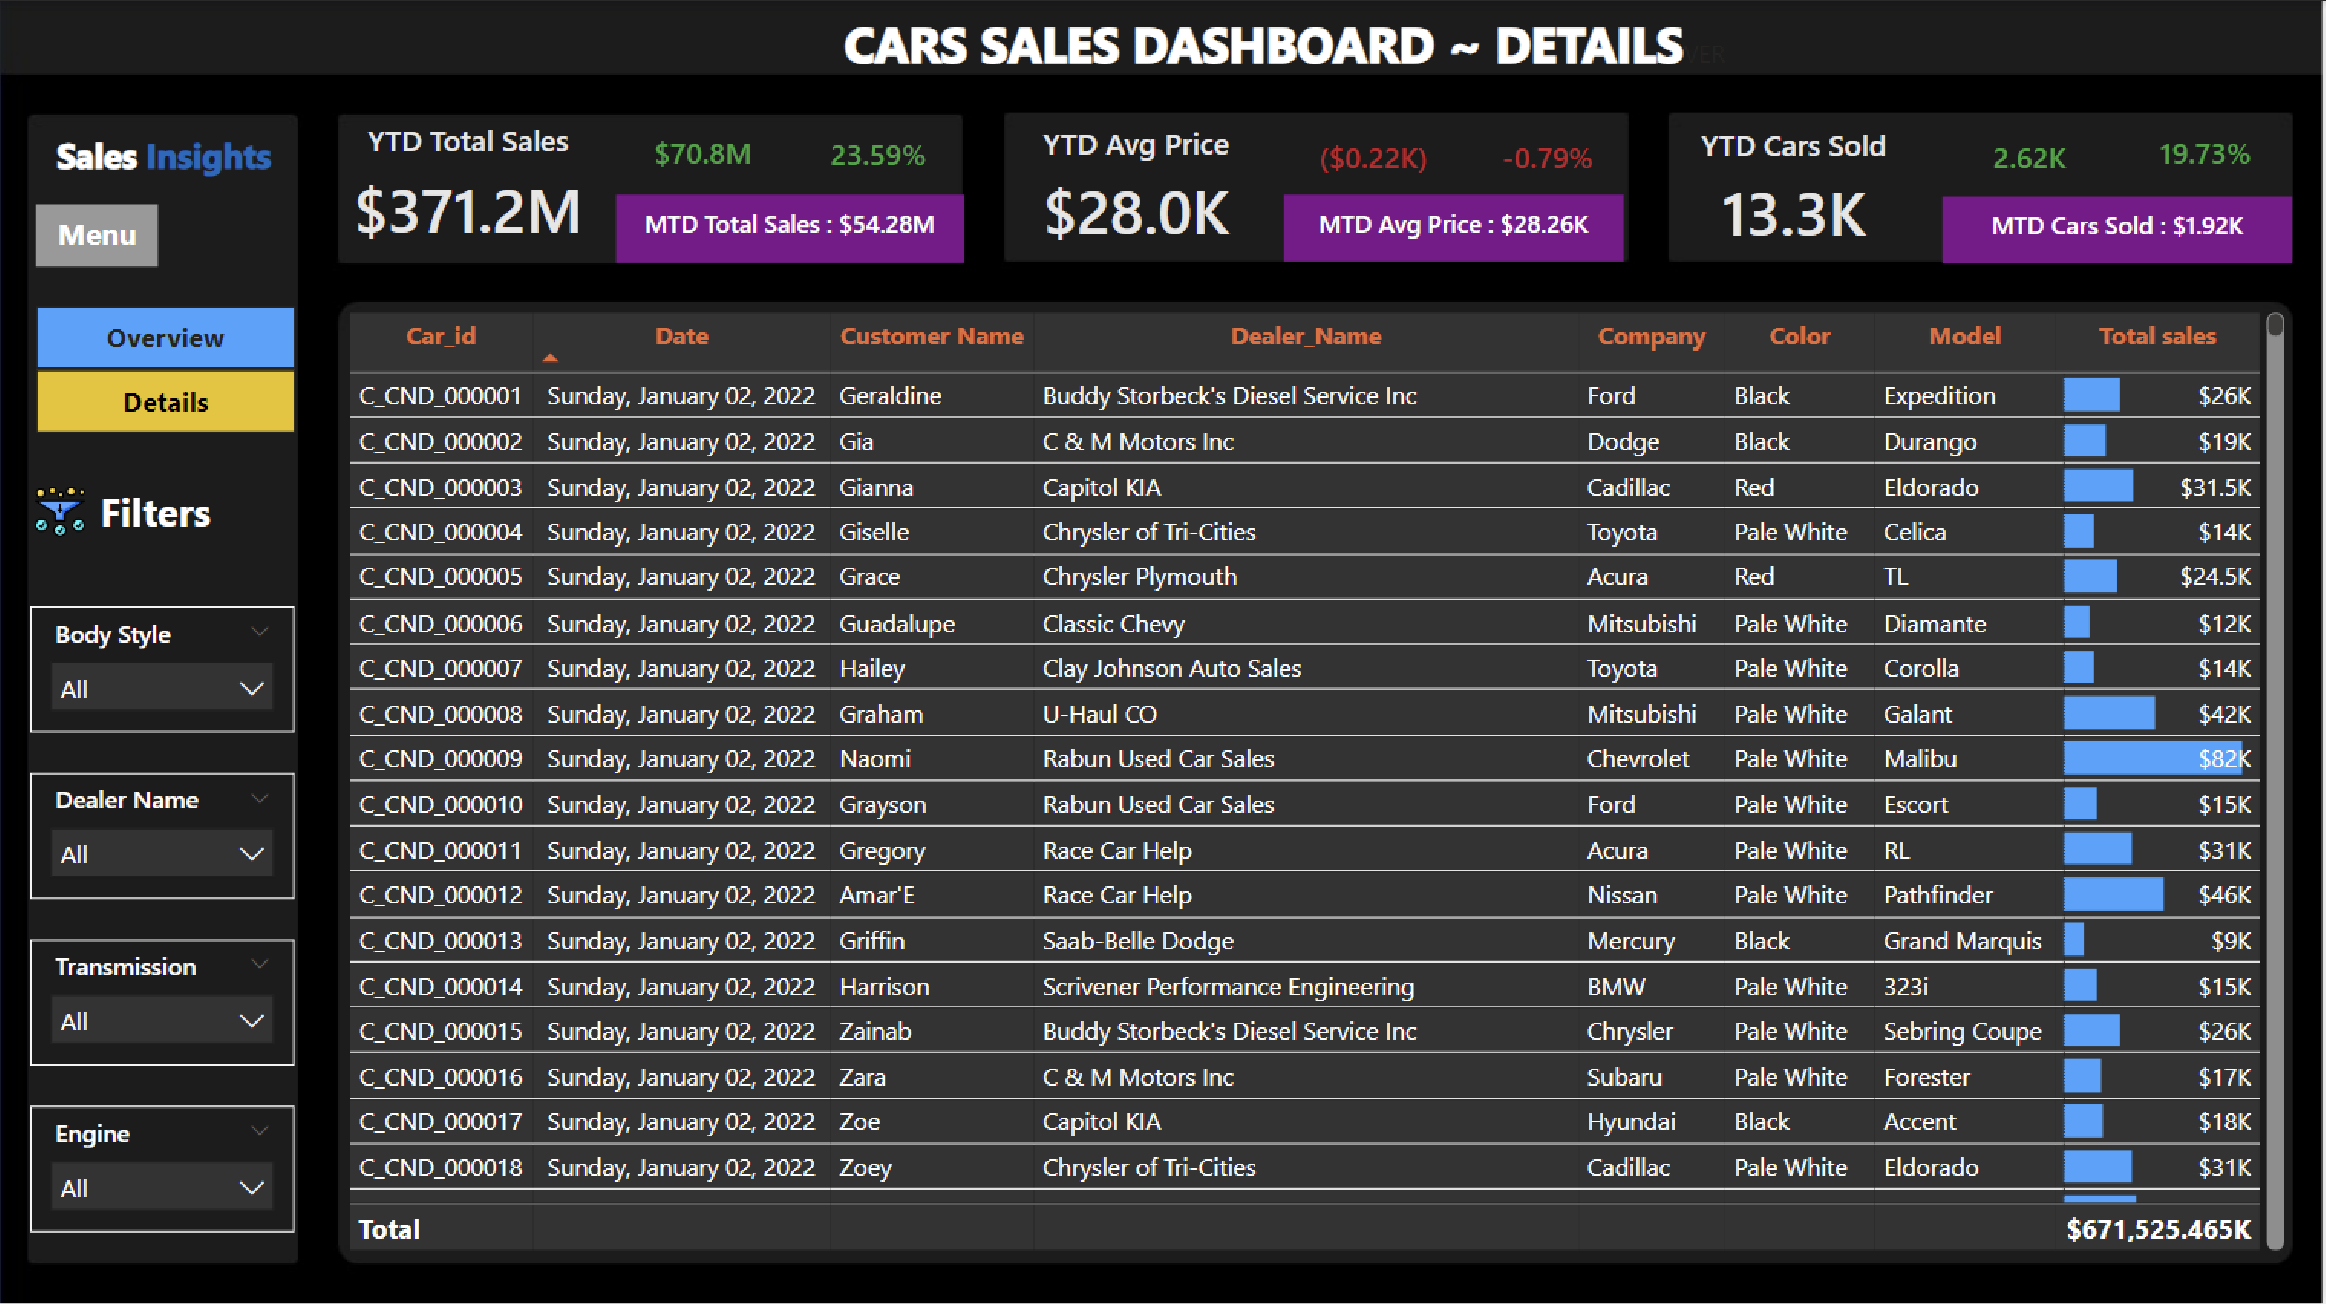

The dashboard page shown, as its layout file describes it:
{"tool":"powerbi","page":{"name":"Details","canvas":[1280,720],"ordinal":1},"visuals":[{"type":"card","title":"YTD Total Sales","fields":{"Values":["car_data.YTD Total Sales"]},"box":[175.6,65.1,164,81.4],"z":0},{"type":"card","fields":{"Values":["car_data.Sales Difference"]},"box":[339.5,65.1,96.5,40.7],"z":1000},{"type":"card","fields":{"Values":["car_data.YOY Sales Growth"]},"box":[436,66.3,95.3,40.7],"z":2000},{"type":"card","fields":{"Values":["car_data.MTD KPI"]},"box":[339.5,107,191.9,37.2],"z":3000},{"type":"card","title":"YTD Avg Price","fields":{"Values":["car_data.YTD Avg Price"]},"box":[544.2,66.3,164,81.4],"z":4000},{"type":"card","fields":{"Values":["car_data.Avg Price Difference"]},"box":[708.1,67.4,96.5,40.7],"z":5000},{"type":"card","fields":{"Values":["car_data.YoY Avg Price Growth"]},"box":[804.7,67.4,96.5,40.7],"z":6000},{"type":"card","fields":{"Values":["car_data.MTD Avg Price KPI"]},"box":[708.1,106.1,187.1,37],"z":7000},{"type":"card","title":"YTD Cars Sold","fields":{"Values":["car_data.YTD Cars Sold"]},"box":[907.1,67.9,163.3,81.1],"z":8000},{"type":"card","fields":{"Values":["car_data.Cars Sold Difference"]},"box":[1070.4,67.9,96.6,40.5],"z":9000},{"type":"card","fields":{"Values":["car_data.YoY Cars Sold Growth"]},"box":[1167,65.6,96.6,40.5],"z":10000},{"type":"card","fields":{"Values":["car_data.MTD Cars Sold KPI"]},"box":[1070.4,107.3,193.1,37],"z":11000},{"type":"textbox","box":[431.4,0,553.5,50],"z":12000},{"type":"slicer","fields":{"Values":["car_data.Body Style"]},"box":[16.6,333.6,145.3,69.8],"z":13000},{"type":"slicer","fields":{"Values":["car_data.Dealer_Name"]},"box":[16.6,425.1,145.3,69.8],"z":14000},{"type":"slicer","fields":{"Values":["car_data.Transmission"]},"box":[16.6,516.5,145.3,69.8],"z":15000},{"type":"slicer","fields":{"Values":["car_data.Engine"]},"box":[16.6,608,145.3,69.8],"z":16000},{"type":"textbox","box":[46.8,261.9,79.1,39.5],"z":17000},{"type":"image","box":[14.2,261.9,39.5,39.5],"z":18000},{"type":"tableEx","fields":{"Values":["car_data.Car_id","car_data.Date","car_data.Customer Name","car_data.Dealer_Name","car_data.Company","car_data.Color","car_data.Model","car_data.Price ($)"]},"box":[187.1,166.3,1076.7,526.9],"z":19000},{"type":"textbox","box":[17.7,67.6,145.5,41.6],"z":20000},{"type":"textbox","box":[19.7,112.2,67.6,34.3],"z":21000},{"type":"pageNavigator","box":[19.7,167.3,143.4,71.7],"z":22000}]}

Visuals, with their boxes in screenshot pixels (x1, y1, x2, y2), scaled from the page's 1280x720 canvas onto the 2326x1304 screenshot:
"YTD Total Sales" card: bbox=[319, 118, 617, 265]
card - car_data.Sales Difference: bbox=[617, 118, 792, 192]
card - car_data.YOY Sales Growth: bbox=[792, 120, 965, 194]
card - car_data.MTD KPI: bbox=[617, 194, 966, 261]
"YTD Avg Price" card: bbox=[989, 120, 1287, 268]
card - car_data.Avg Price Difference: bbox=[1287, 122, 1462, 196]
card - car_data.YoY Avg Price Growth: bbox=[1462, 122, 1638, 196]
card - car_data.MTD Avg Price KPI: bbox=[1287, 192, 1627, 259]
"YTD Cars Sold" card: bbox=[1648, 123, 1945, 270]
card - car_data.Cars Sold Difference: bbox=[1945, 123, 2121, 196]
card - car_data.YoY Cars Sold Growth: bbox=[2121, 119, 2296, 192]
card - car_data.MTD Cars Sold KPI: bbox=[1945, 194, 2296, 261]
textbox: bbox=[784, 0, 1790, 91]
slicer - car_data.Body Style: bbox=[30, 604, 294, 731]
slicer - car_data.Dealer_Name: bbox=[30, 770, 294, 896]
slicer - car_data.Transmission: bbox=[30, 935, 294, 1062]
slicer - car_data.Engine: bbox=[30, 1101, 294, 1228]
textbox: bbox=[85, 474, 229, 546]
image: bbox=[26, 474, 98, 546]
tableEx - car_data.Car_id x car_data.Date: bbox=[340, 301, 2297, 1255]
textbox: bbox=[32, 122, 297, 198]
textbox: bbox=[36, 203, 159, 265]
pageNavigator: bbox=[36, 303, 296, 433]
